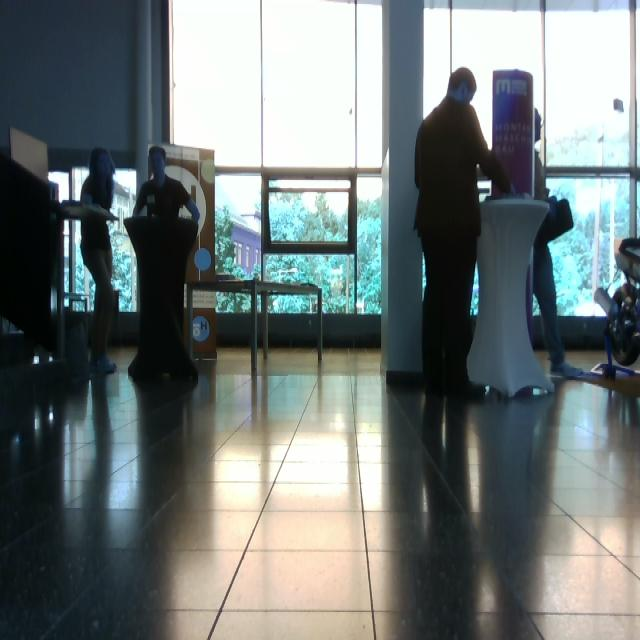light bulb: (614, 98, 624, 113)
person: (413, 66, 514, 400), (128, 145, 201, 382), (532, 108, 585, 380), (79, 147, 121, 375)
pillar: (381, 1, 425, 382)
tiled floor: (2, 343, 639, 639)
window: (168, 1, 386, 318)
